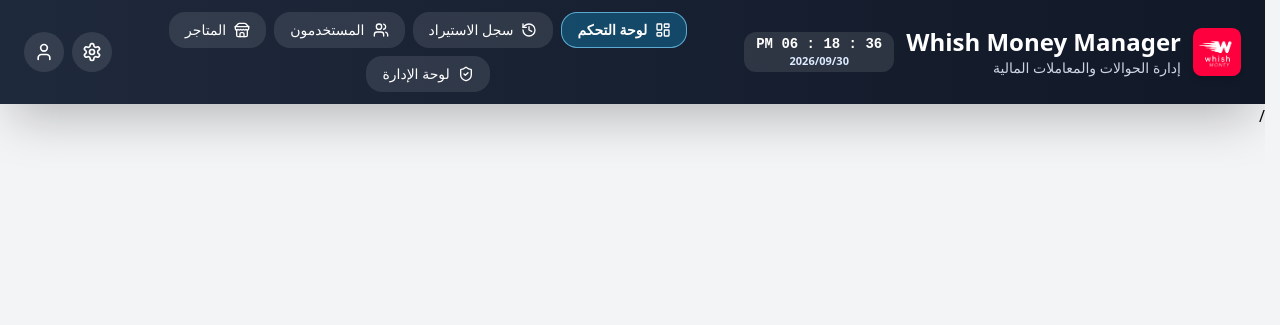
it: the account menu › Log out signs out and closes the menu
Step 1. Click the button with test id "user-menu-button" → click(44, 52), box [24,32,64,72]
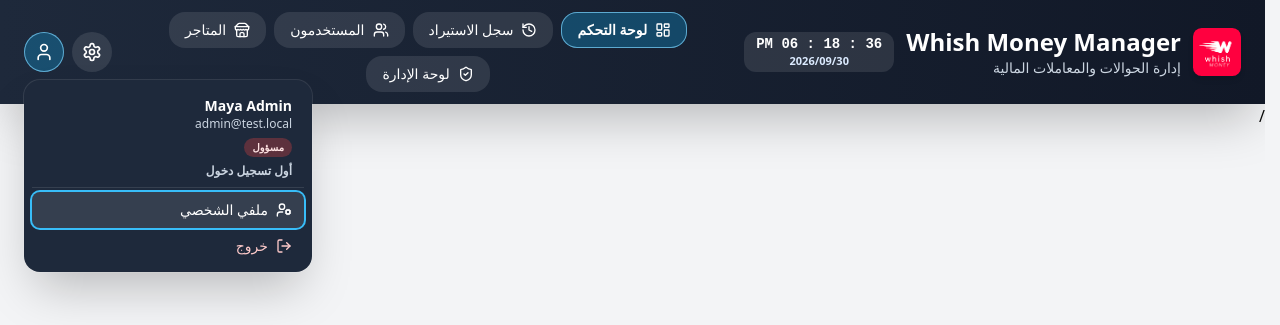
Step 2. Click the menu item with test id "logout-button" → click(252, 246), box [32,228,304,264]
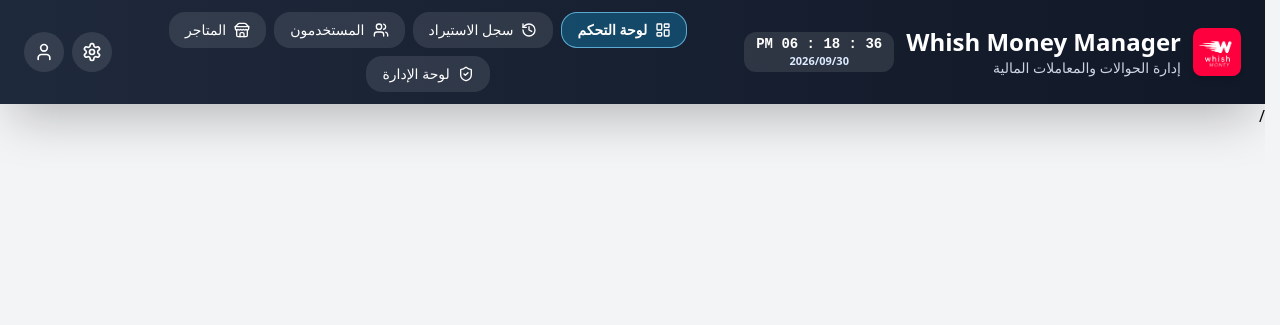
Expected: the menu is gone
